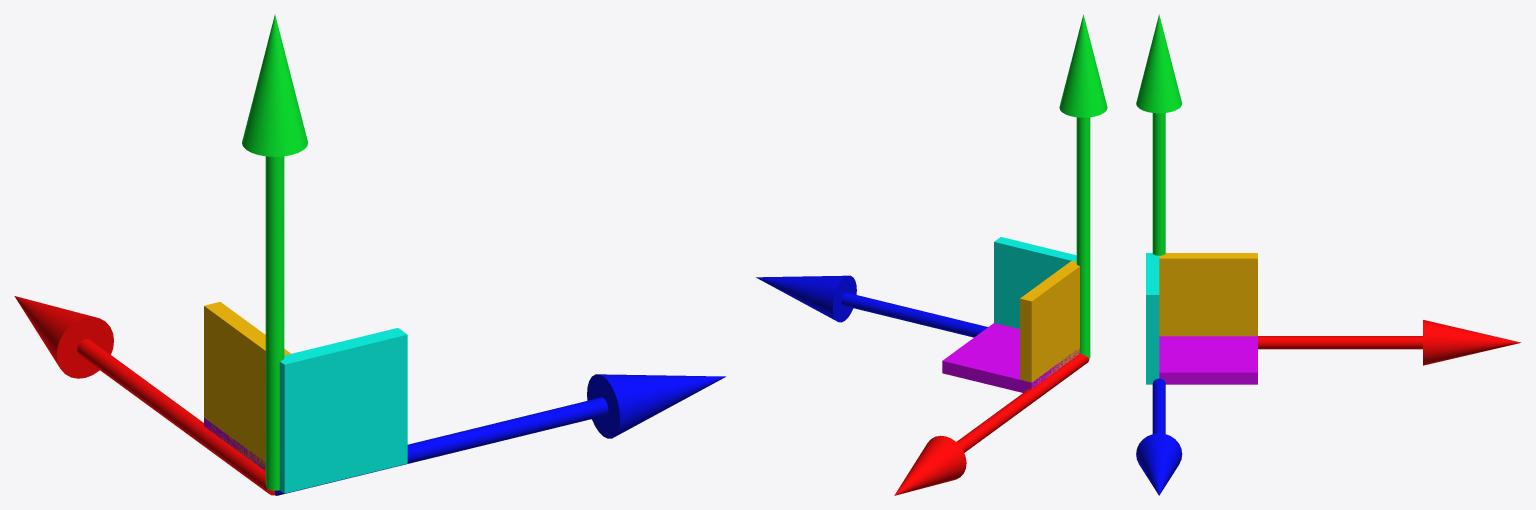
3 renders of one model, left to right at view 1: azimuth 30°, elevation 25°; view 2: azimuth 150°, elevation 25°; view 3: azimuth 270°, elevation 25°, orthographic. The views are drawn at different scales.
Parts seen in each view (by area): view 1: Box006, Cylinder001, Cylinder002, Box005, Cylinder003; view 2: Cylinder001, Box005, Cylinder002, Cylinder003, Box004, Box006; view 3: Box005, Box004, Cylinder003, Cylinder001, Cylinder002, Box006.
Boxes of the visible parts, bbox=[...] form: Box006: bbox=[279, 328, 407, 493]; Cylinder001: bbox=[242, 14, 307, 490]; Cylinder002: bbox=[275, 374, 725, 495]; Box005: bbox=[204, 302, 290, 469]; Cylinder003: bbox=[14, 296, 274, 495]; Cylinder001: bbox=[1059, 14, 1107, 358]; Box005: bbox=[1020, 261, 1079, 390]; Cylinder002: bbox=[756, 275, 987, 337]; Cylinder003: bbox=[894, 353, 1089, 495]; Box004: bbox=[942, 323, 1079, 392]; Box006: bbox=[994, 237, 1076, 329]; Box005: bbox=[1159, 253, 1257, 336]; Box004: bbox=[1159, 336, 1257, 384]; Cylinder003: bbox=[1258, 320, 1520, 365]; Cylinder001: bbox=[1136, 14, 1182, 255]; Cylinder002: bbox=[1136, 378, 1182, 495]; Box006: bbox=[1146, 253, 1159, 384].
Size of the model in its own units: 11.7 by 11.7 by 11.7.
